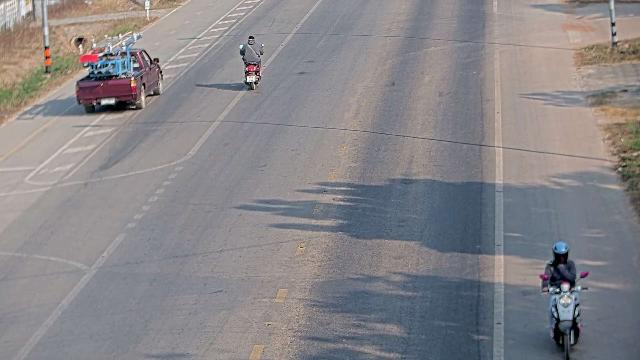motorcycle: (539, 268, 590, 358), (239, 41, 266, 91)
pickup-truck: (75, 47, 163, 113)
